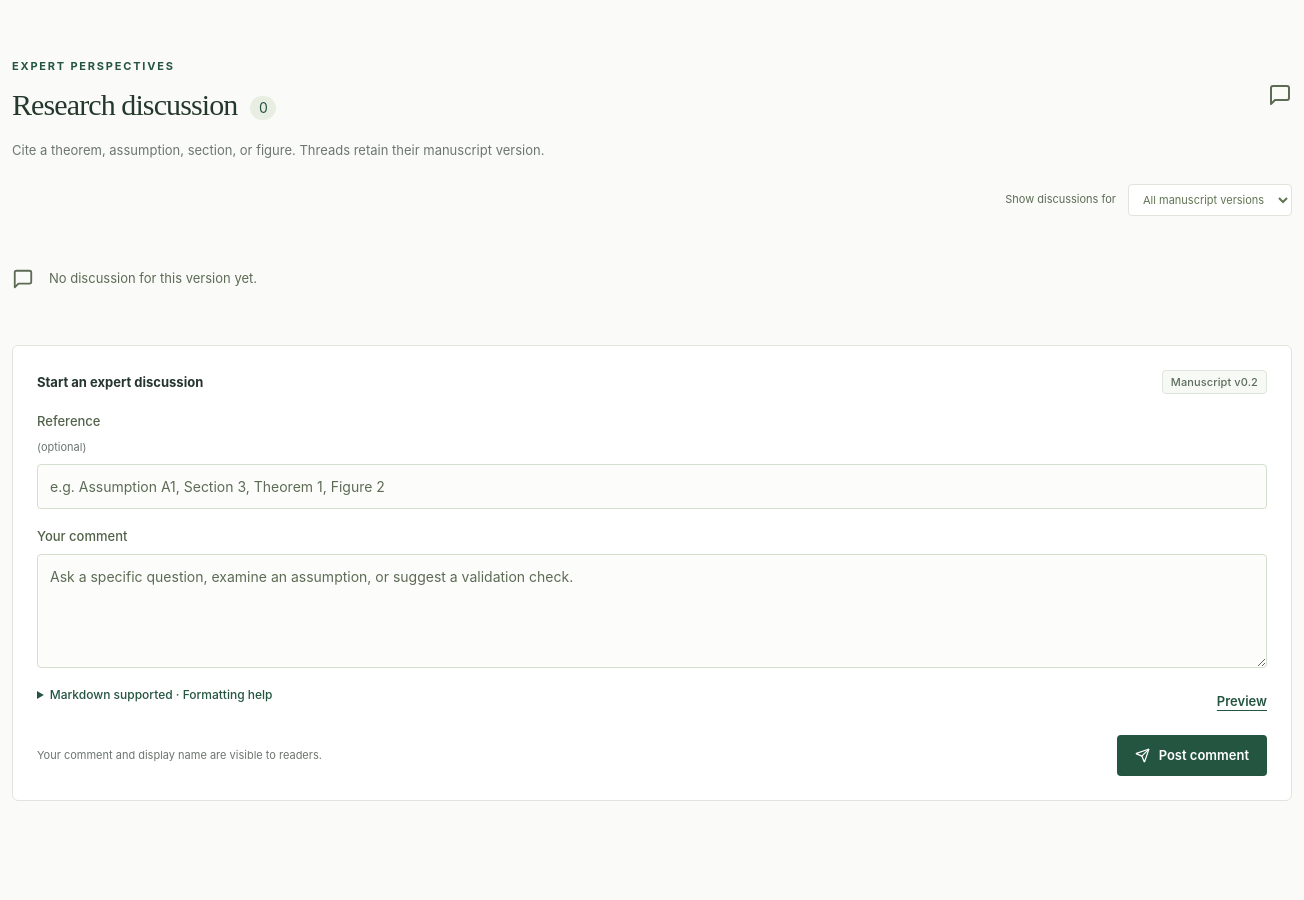
Test case: Discussion submission recovery › preserves a rejected draft and explains the failure as an alert
Type "Please inspect this assumption." into the text box labelled "Your comment" at (652, 611), box [37, 554, 1267, 668]
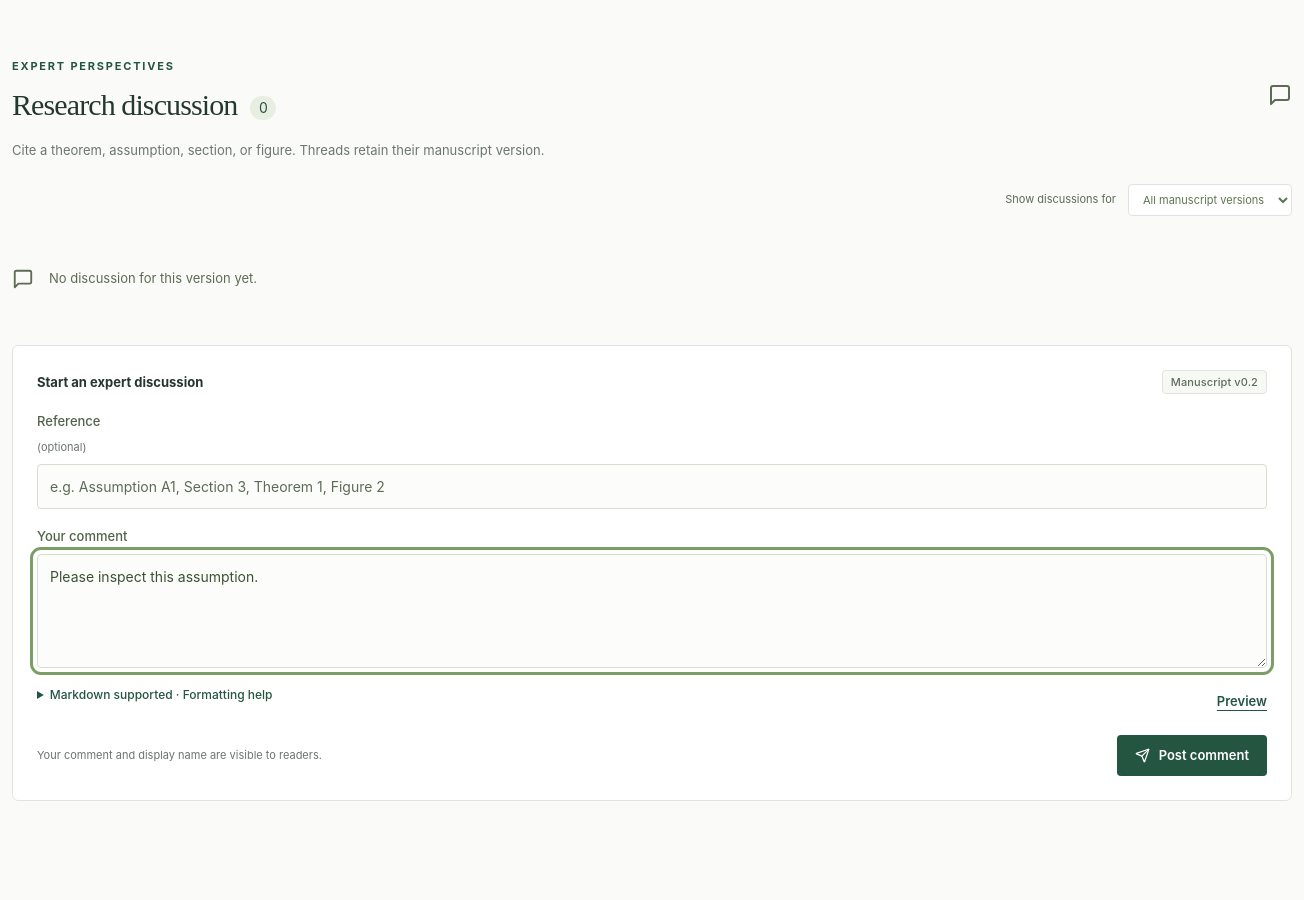
Click the button "Post comment" at (1192, 756), box [1117, 735, 1267, 776]
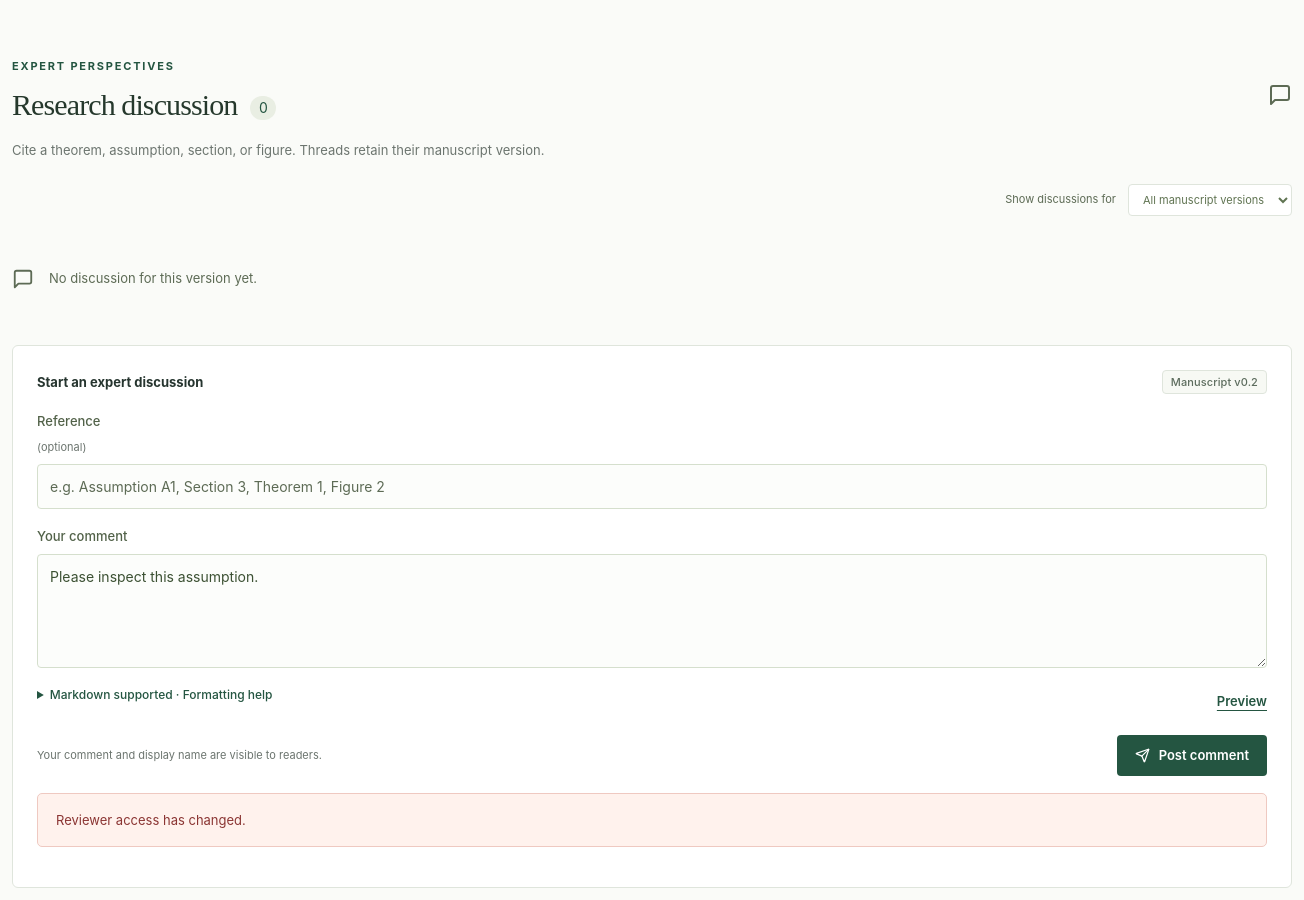
Result: the message reads "Reviewer access has changed." at [56, 812, 246, 828]
